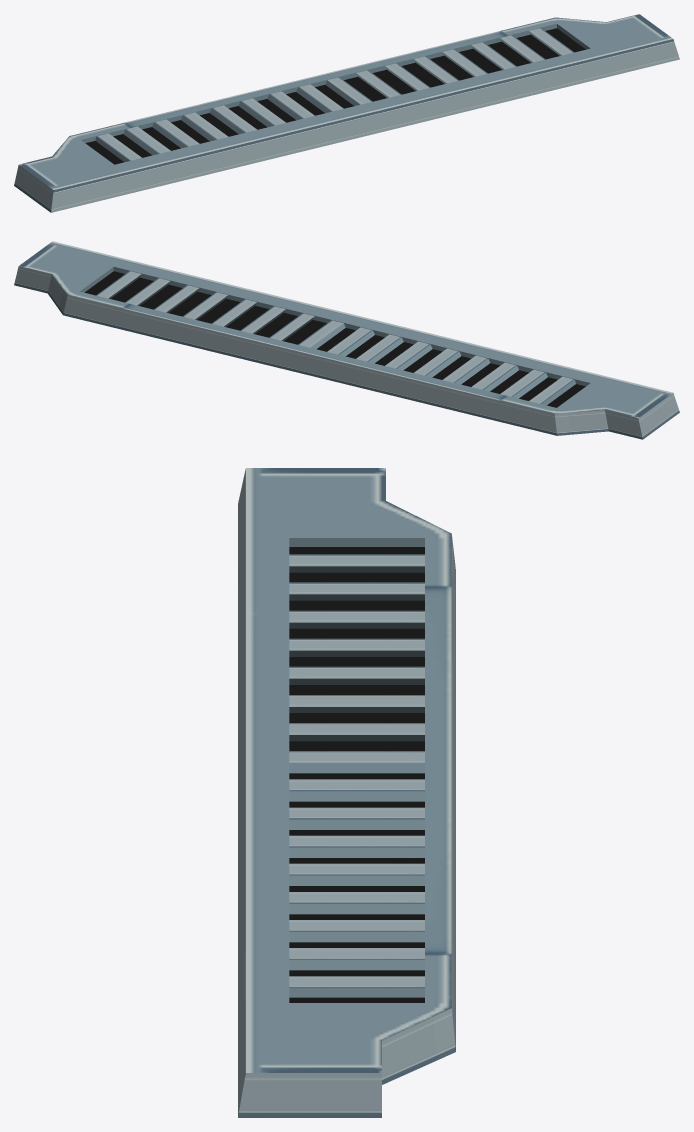
Rendered from Prop_Vent_Wide.gltf.
3 renders of one model, top to bottom at view 1: azimuth 30°, elevation 25°; view 2: azimuth 150°, elevation 25°; view 3: azimuth 270°, elevation 25°, orthographic. The views are drawn at different scales.
Visible parts, largest first — view 1: Prop_Vent_Wide; view 2: Prop_Vent_Wide; view 3: Prop_Vent_Wide.
Part boxes in pixels (bbox=[...]): Prop_Vent_Wide: bbox=[14, 14, 679, 212]; Prop_Vent_Wide: bbox=[14, 241, 679, 439]; Prop_Vent_Wide: bbox=[238, 468, 455, 1117].
Bounding box in the file's own units: 1.94 × 0.0595 × 0.291.
Materials: 3 (2 with a texture image).
